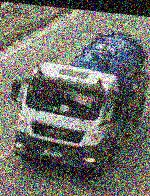truck: (2, 21, 150, 184)
